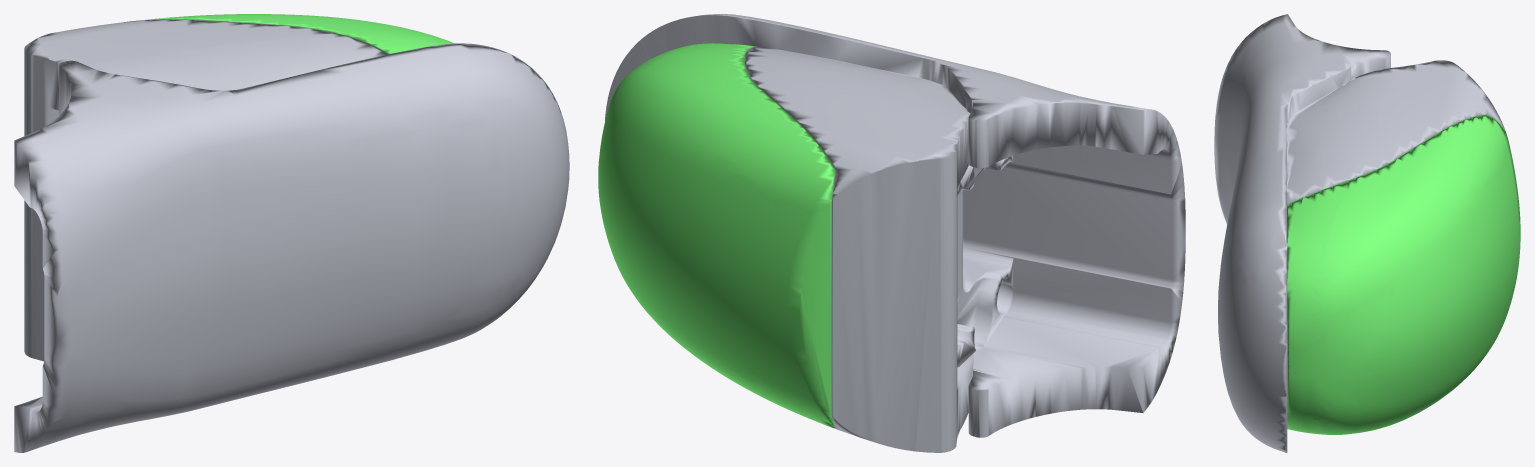
Rendered from right_thumb_DP.glb.
The picture shows the model from 3 angles, left to right: view 1: azimuth 30°, elevation 25°; view 2: azimuth 150°, elevation 25°; view 3: azimuth 270°, elevation 25°; orthographic projection. The views are drawn at different scales.
Size of the model in its own units: 0.0324 by 0.0182 by 0.0184.
